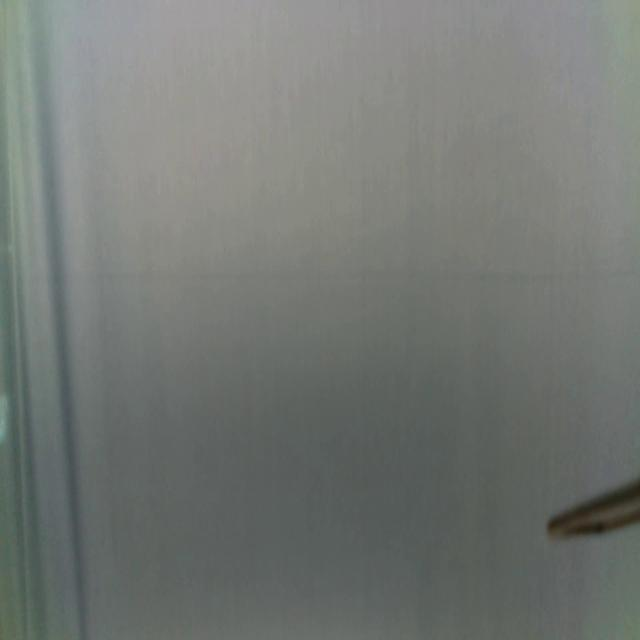color bleeding: (0, 261, 640, 290)
